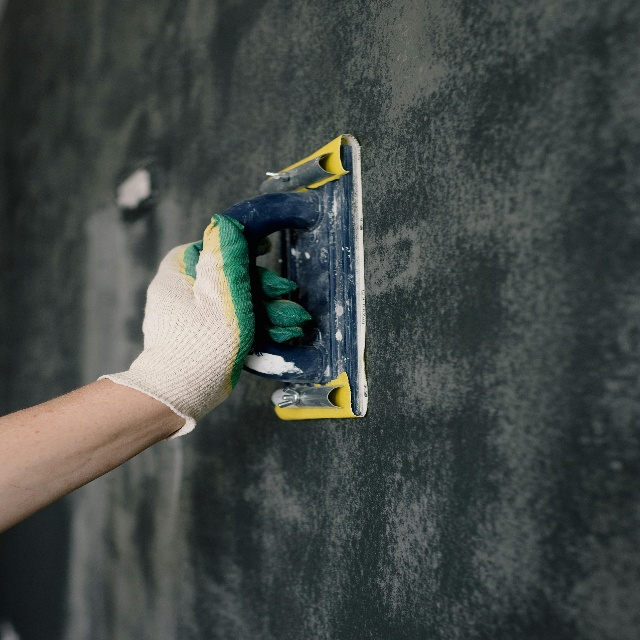Gafas: (98, 209, 312, 439)
